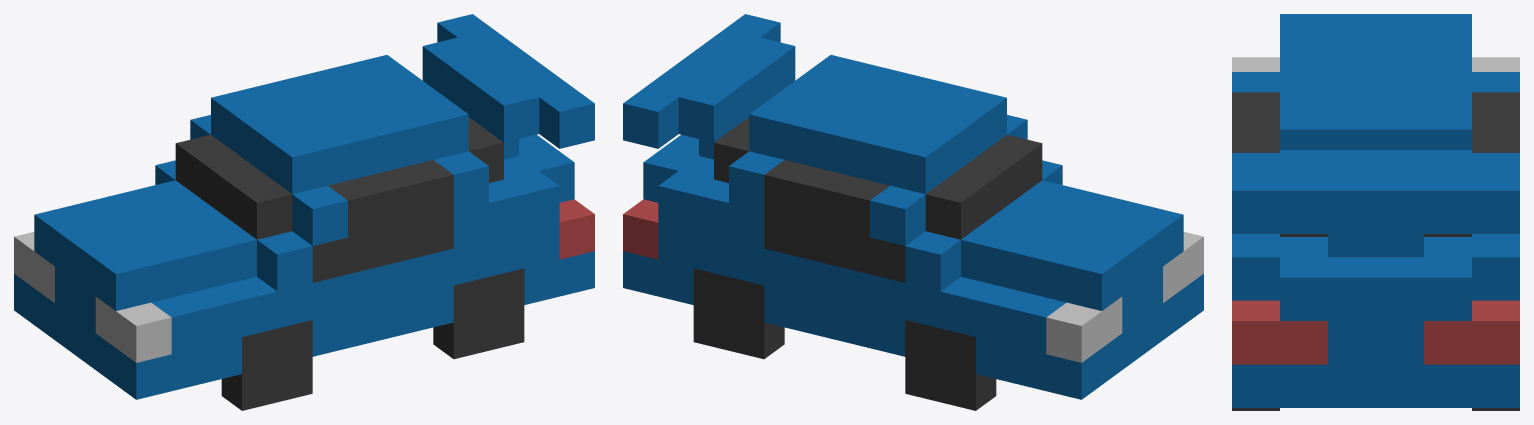
The model's file is racer-v2-blue.gltf.
3 renders of one model, left to right at view 1: azimuth 30°, elevation 25°; view 2: azimuth 150°, elevation 25°; view 3: azimuth 270°, elevation 25°, orthographic. The views are drawn at different scales.
Parts seen in each view (by area): view 1: model, wheels; view 2: model, wheels; view 3: model, wheels.
Part boxes in pixels (<box>): model: <box>14,14,594,399</box>; wheels: <box>221,268,524,410</box>; model: <box>623,14,1203,399</box>; wheels: <box>693,268,996,410</box>; model: <box>1232,14,1519,407</box>; wheels: <box>1232,408,1519,410</box>.
Size of the model in its own units: 1.3 by 0.6 by 0.6.
2 materials, 2 textured.
